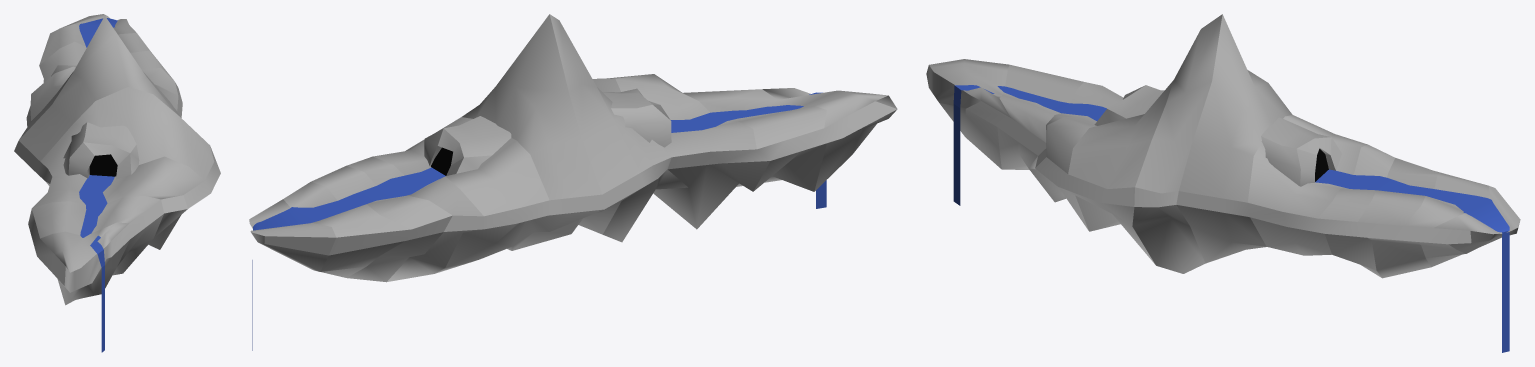
Rendered from ilhasflutuantes_ilhamaior.fbx.
3 views of the same model, side by side, from view 1: azimuth 30°, elevation 25°; view 2: azimuth 150°, elevation 25°; view 3: azimuth 270°, elevation 25° (orthographic). The views are drawn at different scales.
Visible parts, largest first — view 1: ilha_maior; view 2: ilha_maior; view 3: ilha_maior.
Part boxes in pixels (x1,y1,x2,y2): ilha_maior: [14, 14, 220, 352]; ilha_maior: [249, 14, 897, 350]; ilha_maior: [926, 14, 1520, 352].
Bounding box in the file's own units: 0.2485 × 0.1773 × 0.3607.
